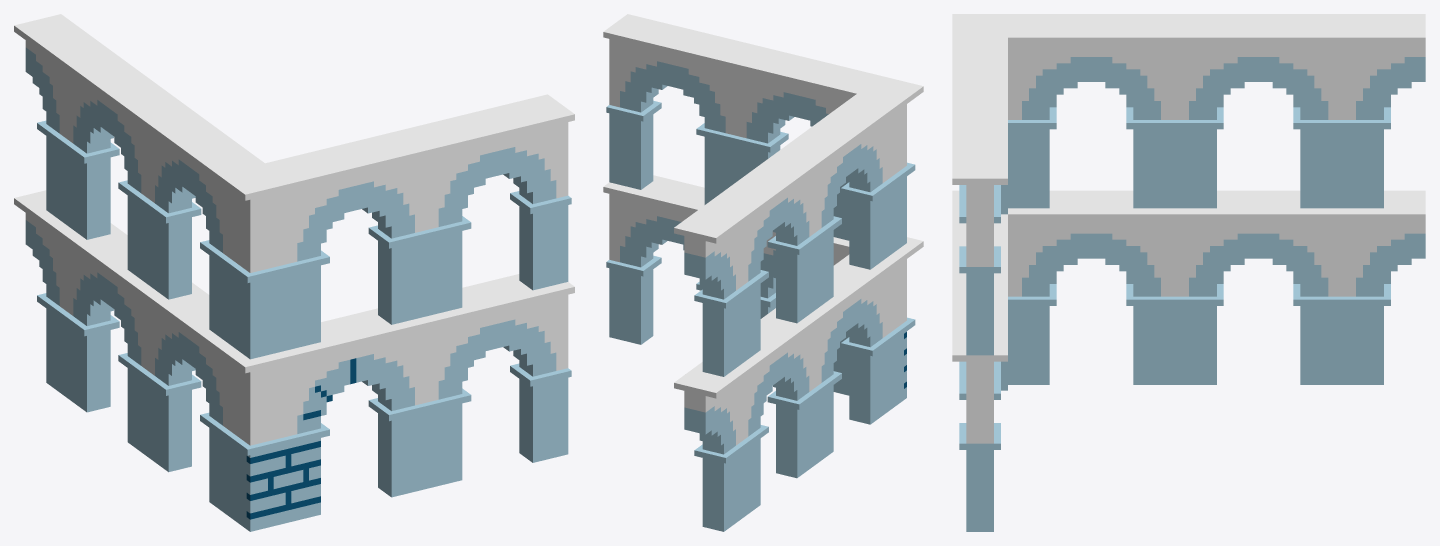
Rendered from nma_front_right_overtile.obj.
3 views of the same model, side by side, from view 1: azimuth 30°, elevation 25°; view 2: azimuth 150°, elevation 25°; view 3: azimuth 270°, elevation 25° (orthographic). The views are drawn at different scales.
Bounding box in the file's own units: 5.6 × 5.6 × 6.8.
Materials: 1 (1 with a texture image).
